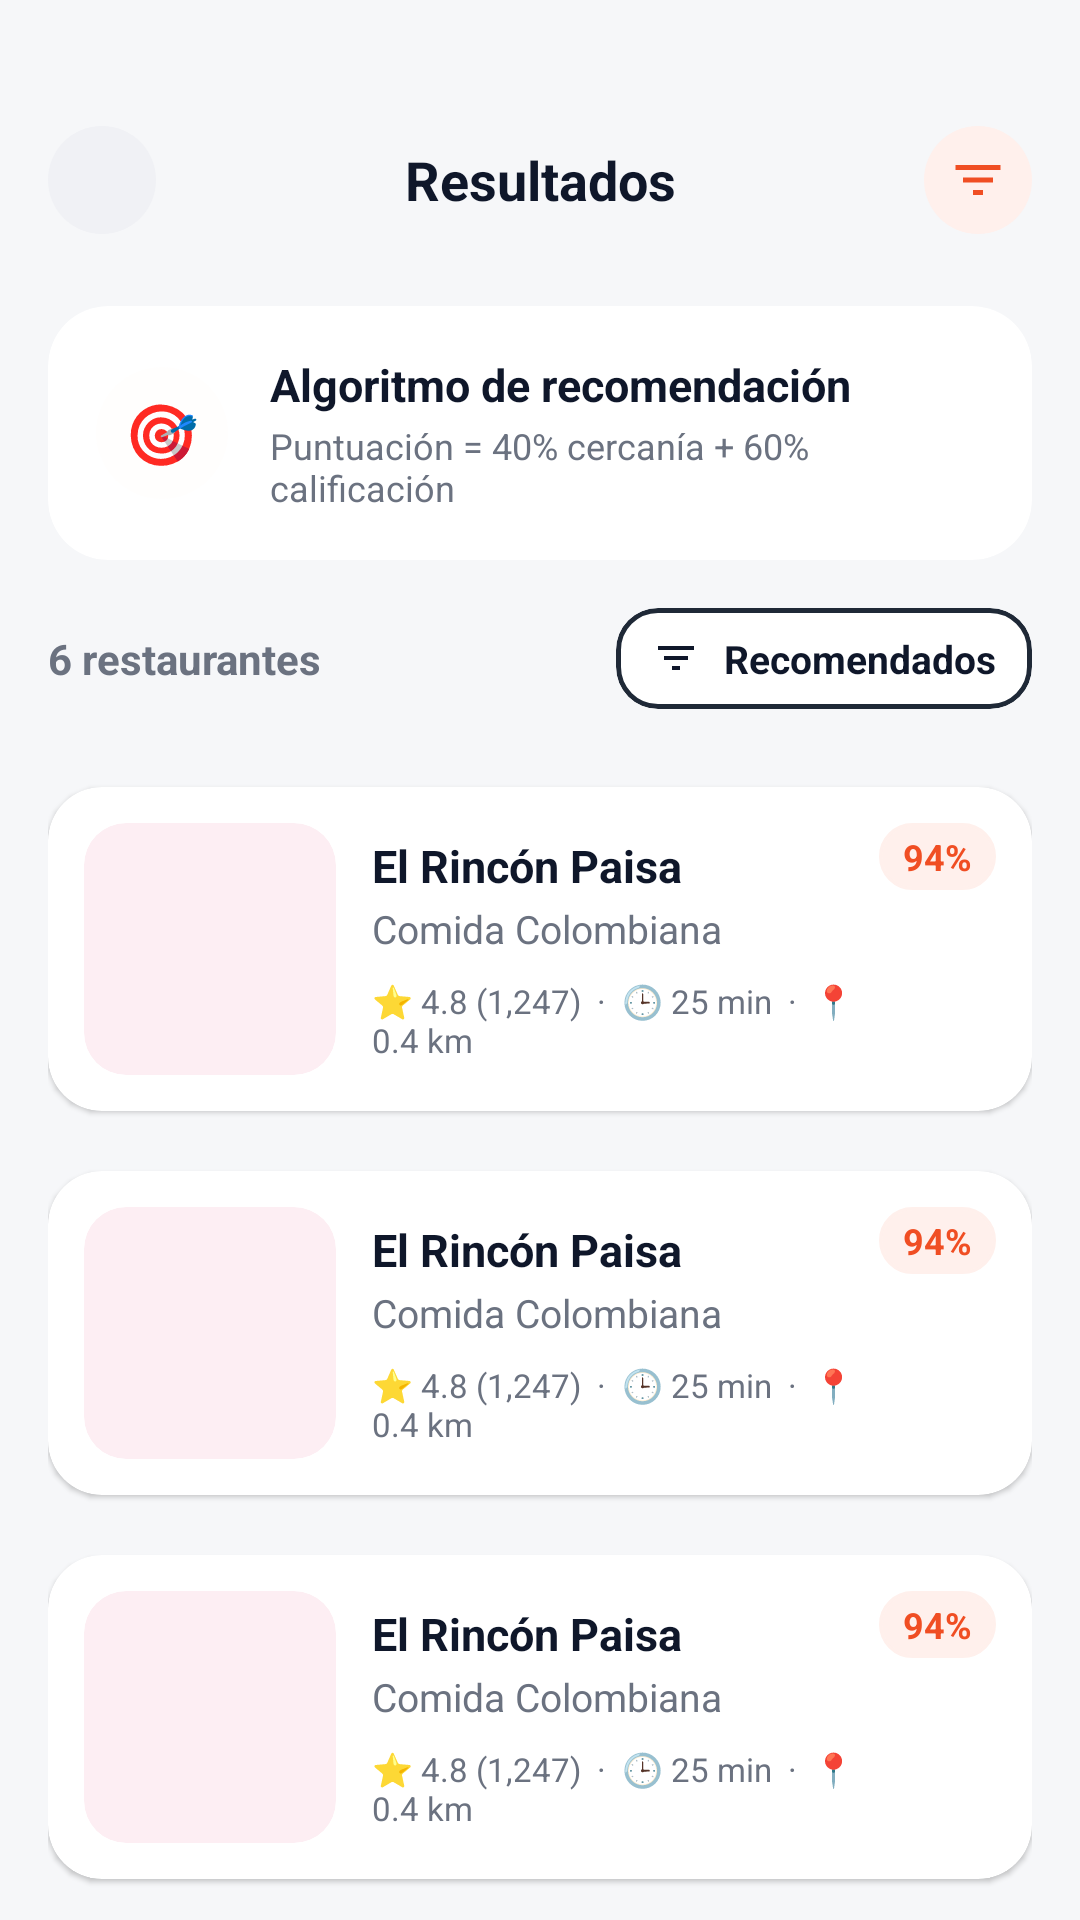

Named icons in this screenshot (1080*1920) and their centers, [x,y]:
Filtros: [978,180]
